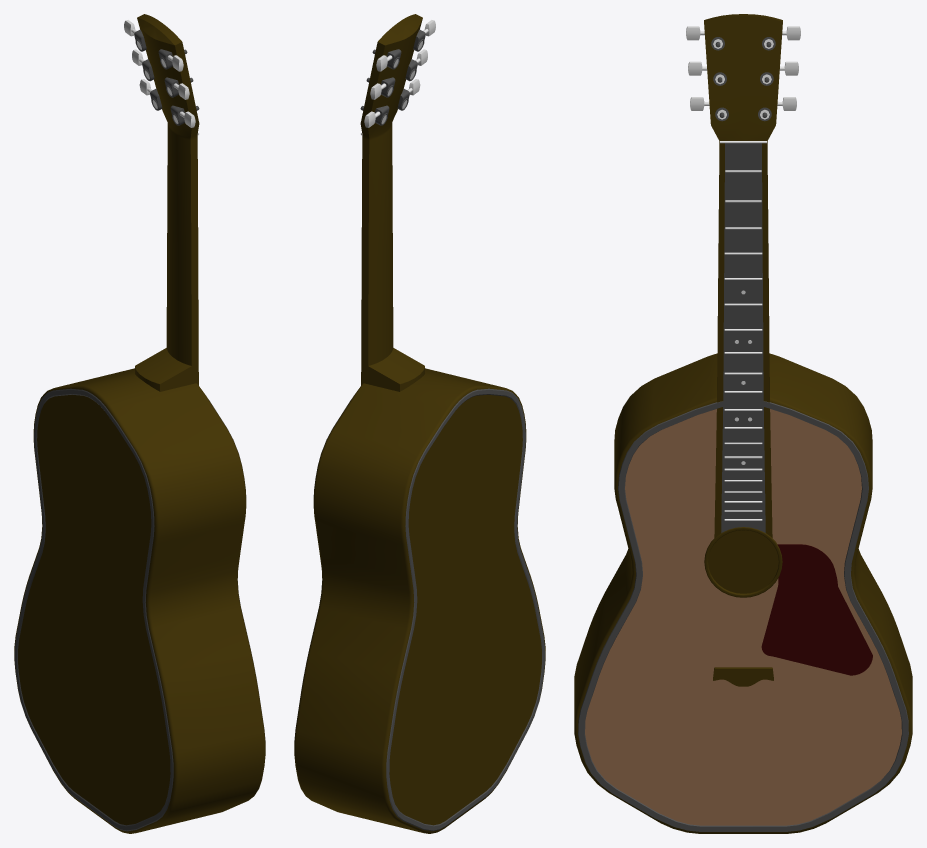
File: FBX_Guitar.fbx
3 views of the same model, side by side, from view 1: azimuth 30°, elevation 25°; view 2: azimuth 150°, elevation 25°; view 3: azimuth 270°, elevation 25° (orthographic). The views are drawn at different scales.
Parts seen in each view (by area): view 1: Cube.001, Cube.002, Cube.010, Cube.006; view 2: Cube.001, Cube.002, Cube.010, Cube.006; view 3: Cube.008, Cube.010, Cube.001, Cube.002, Cube.004, Cube.006.
Boxes of the visible parts, box(x1,y1,x2,y2) form: Cube.001: box(14, 368, 265, 833); Cube.002: box(135, 14, 199, 391); Cube.010: box(14, 29, 265, 831); Cube.006: box(124, 20, 198, 135); Cube.001: box(294, 368, 545, 833); Cube.002: box(360, 14, 424, 391); Cube.010: box(294, 29, 545, 831); Cube.006: box(361, 20, 435, 135); Cube.008: box(585, 409, 901, 825); Cube.010: box(578, 37, 908, 831); Cube.001: box(574, 353, 912, 833); Cube.002: box(704, 14, 782, 537); Cube.004: box(761, 544, 872, 675); Cube.006: box(686, 26, 800, 520).
Size of the model in its own units: 16.45 by 128 by 48.63.
